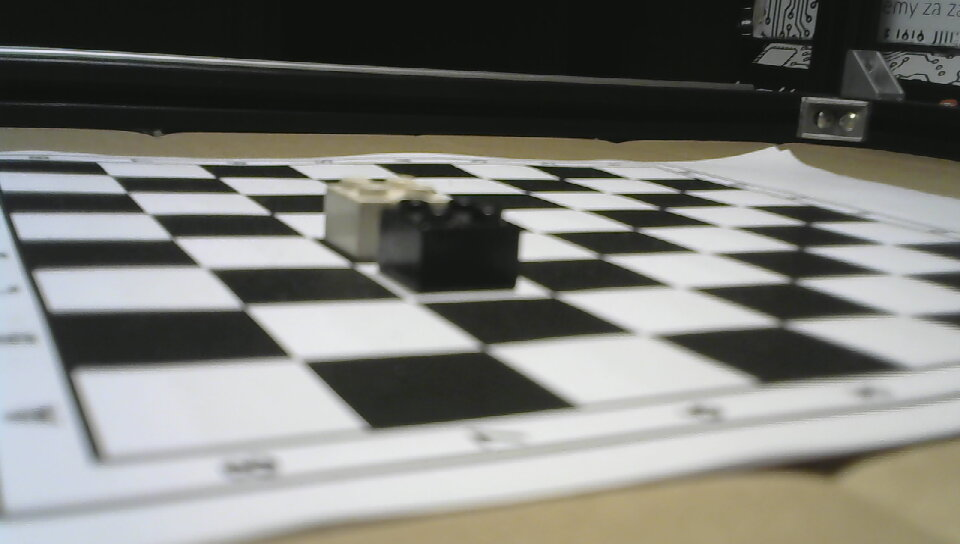wp: (315, 174, 378, 263)
